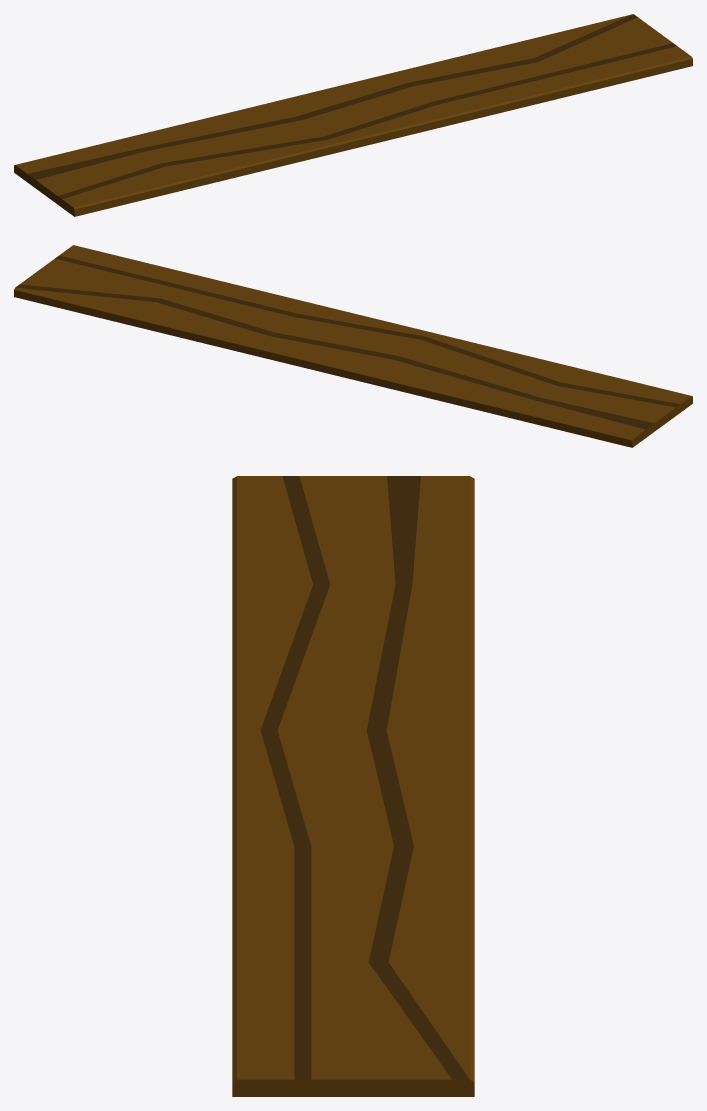
The model's file is WoodenPlank.fbx.
3 renders of one model, top to bottom at view 1: azimuth 30°, elevation 25°; view 2: azimuth 150°, elevation 25°; view 3: azimuth 270°, elevation 25°, orthographic. The views are drawn at different scales.
Parts seen in each view (by area): view 1: pCube1; view 2: pCube1; view 3: pCube1.
Part boxes in pixels (left/top/right/bottom): pCube1: left=14, top=14, right=692, bottom=216; pCube1: left=14, top=245, right=692, bottom=447; pCube1: left=232, top=476, right=474, bottom=1096.
Bounding box in the file's own units: 39.96 × 0.5274 × 6.77.
